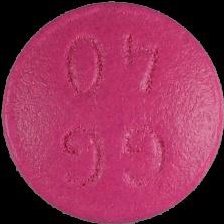49999-205: (0, 0, 224, 224)
